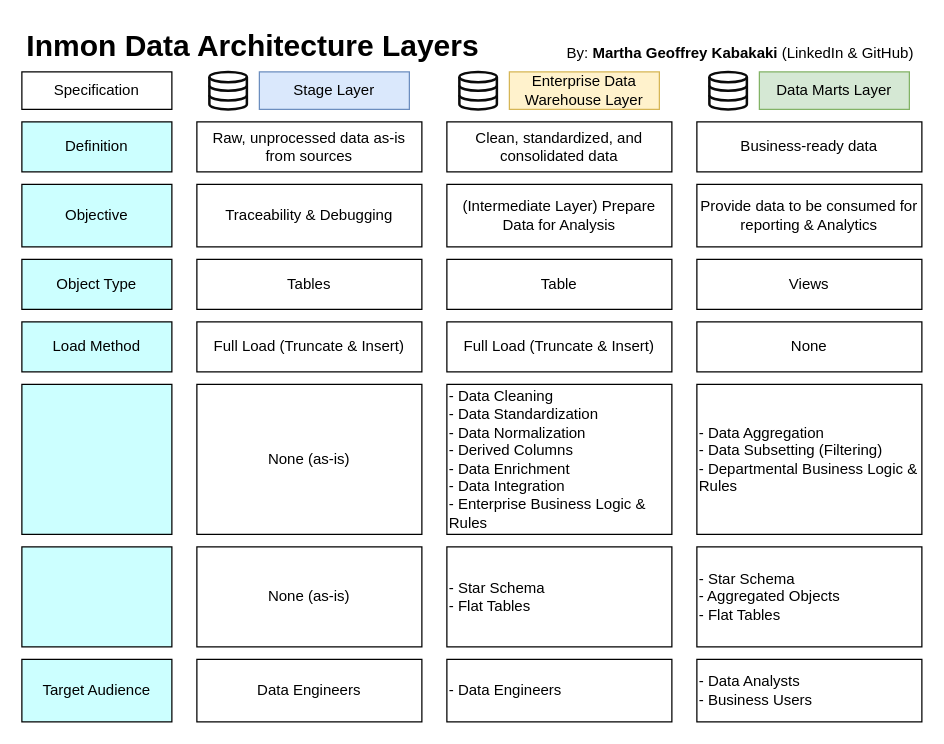
Some shapes in this 944 by 744 pixel diagram are drawn without their labels. Here are the shapes that lost their labels. From the top down, the centre of each, then its label:
At point 96,458: "Data Transformation".
At point 96,596: "Data Modeling".
